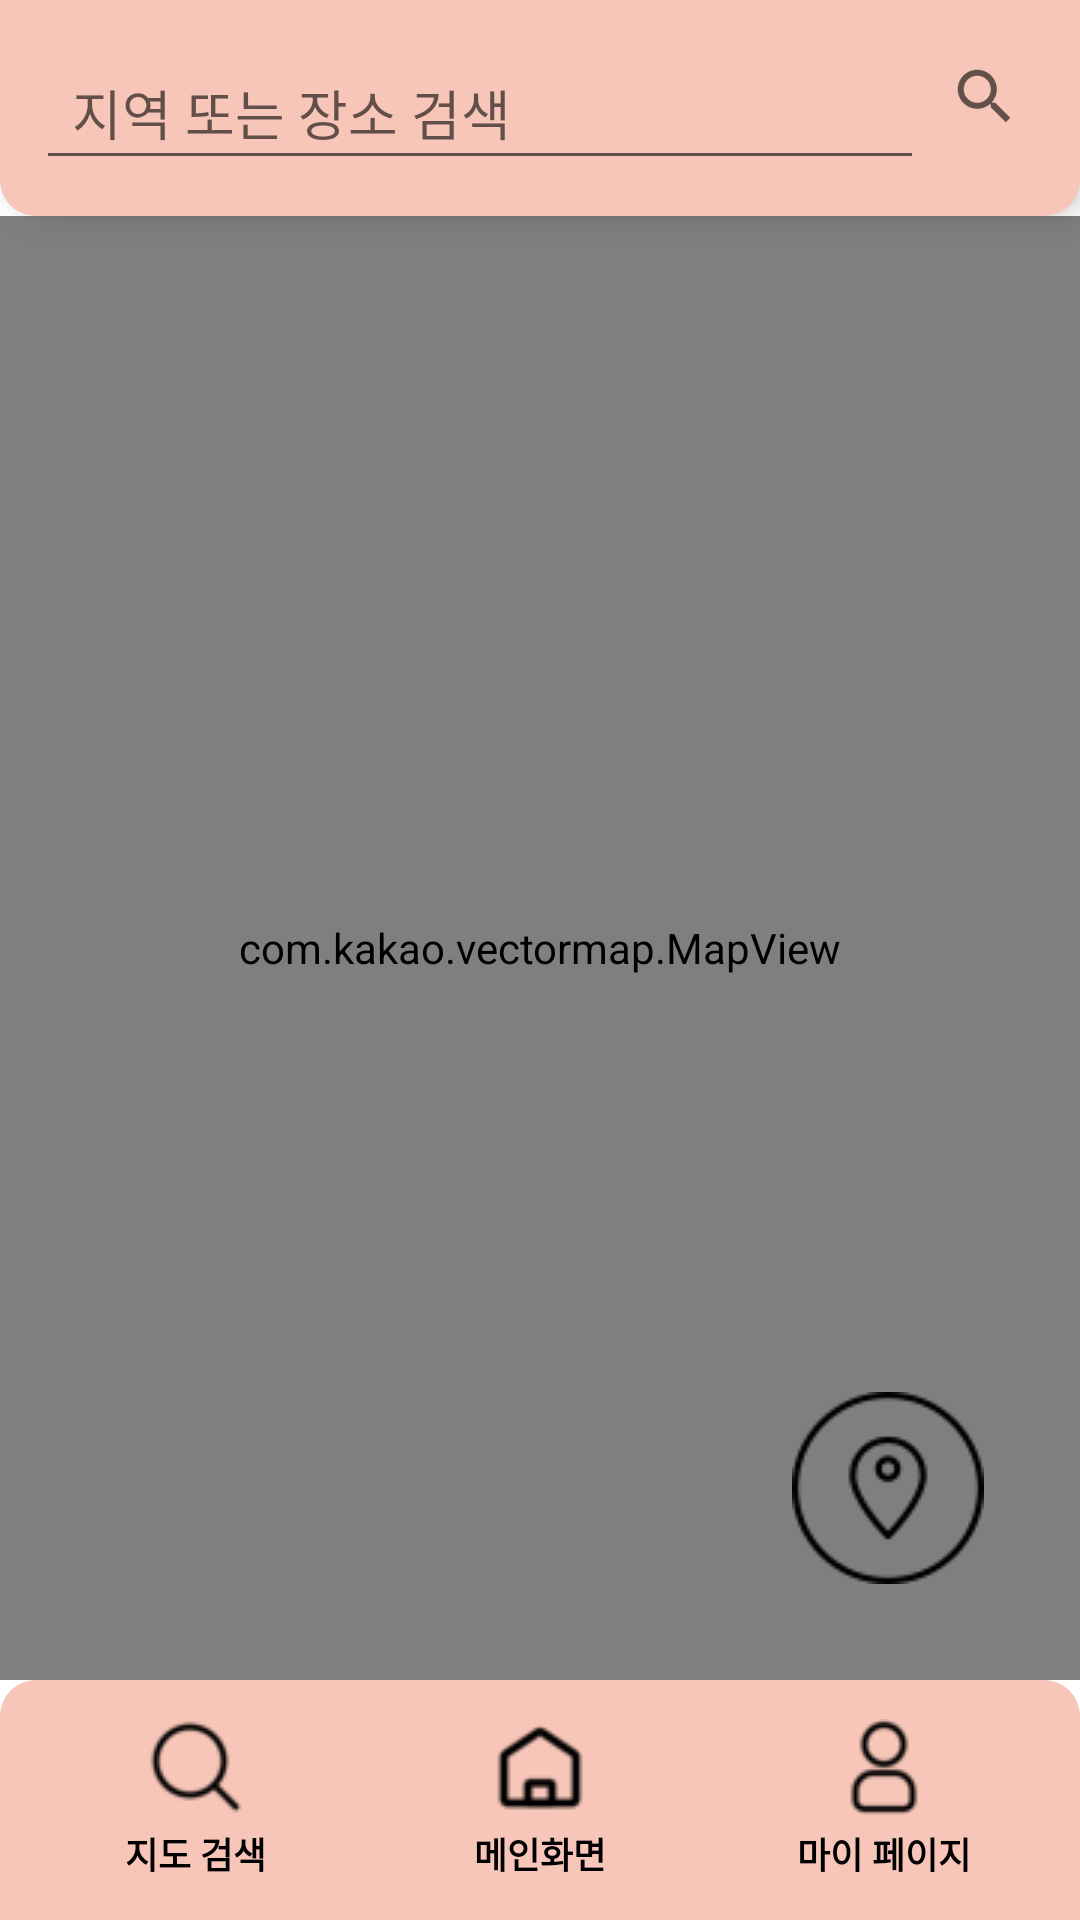

Icon bounding boxes for this 1080w x 1920h phone screenshot, format [x1,y1,x2,y2]:
location: [792,1392,984,1584]
user: [850,1719,918,1815]
